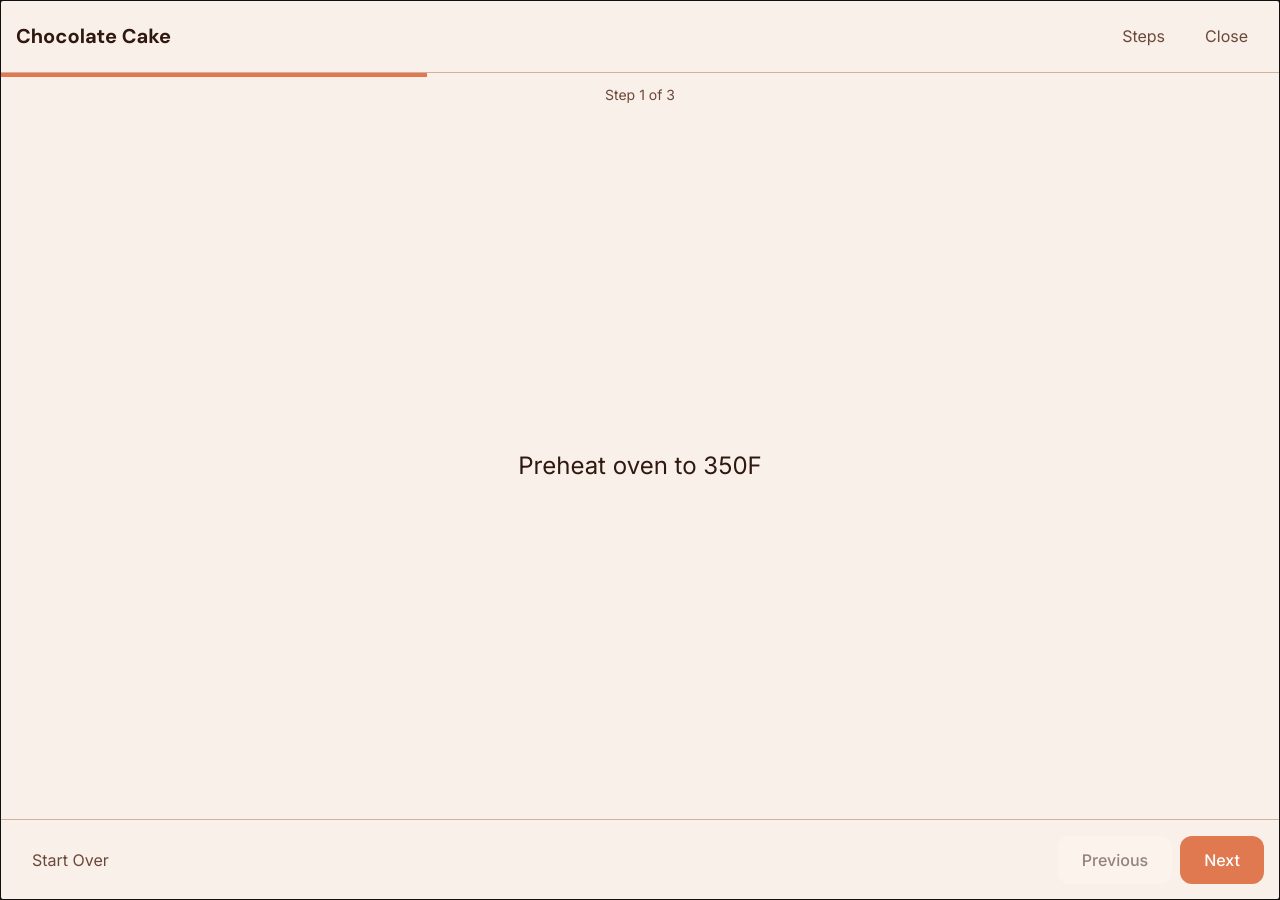
Test: CookingModeOverlay › should show Finish button instead of Next on last step
Navigate to last step
Step 1. Click the button "Next" → (1222, 860), box [1180,836,1264,884]
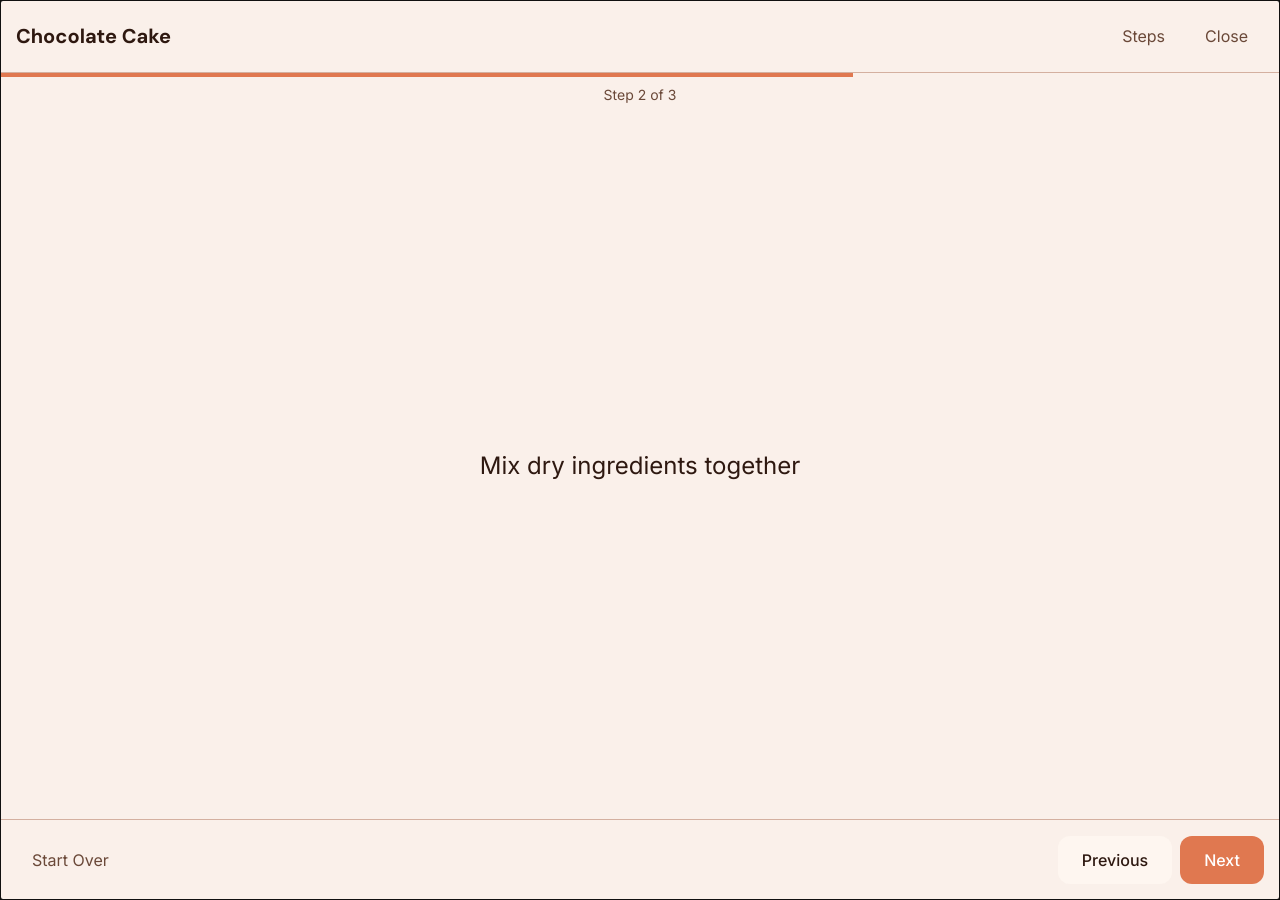
Step 2. Click the button "Next" → (1222, 860), box [1180,836,1264,884]
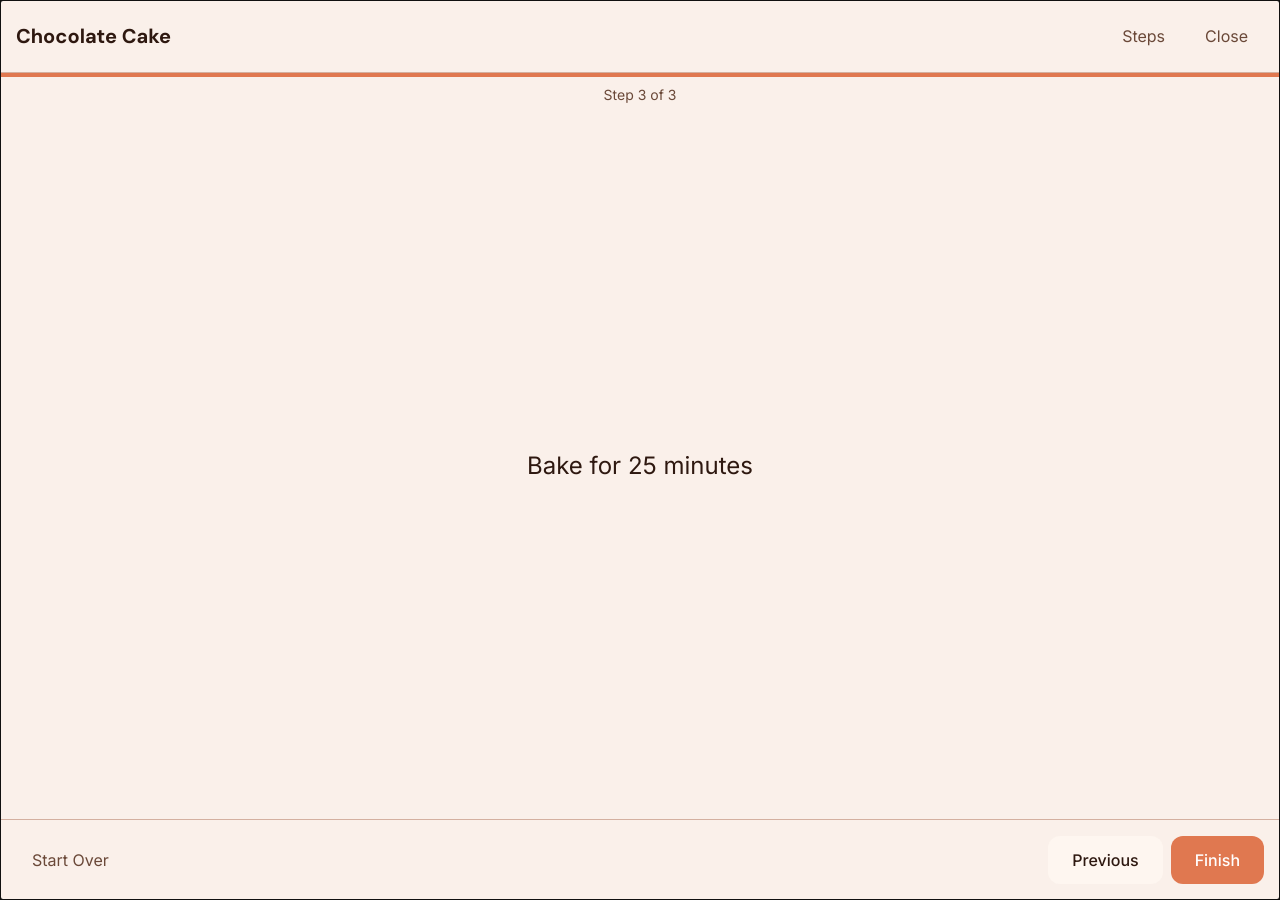
expect the button "Finish" is shown: met, box [1171,836,1264,884]
expect the button "Next" is gone: met
